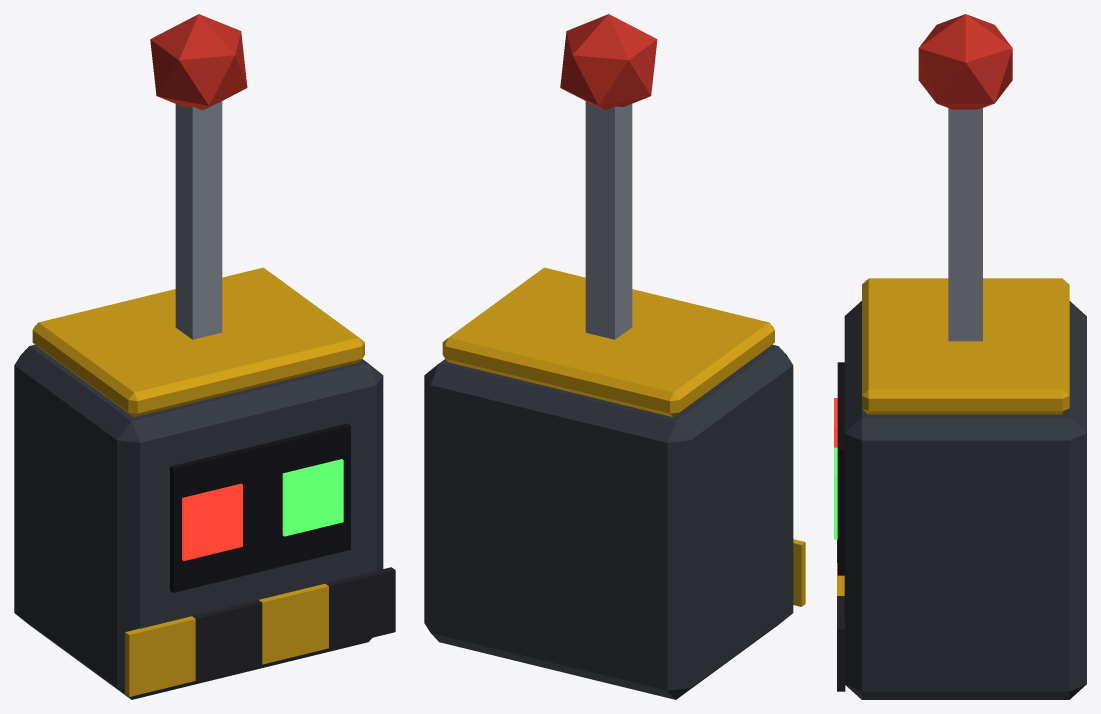
File: lever.glb
3 views of the same model, side by side, from view 1: azimuth 30°, elevation 25°; view 2: azimuth 150°, elevation 25°; view 3: azimuth 270°, elevation 25° (orthographic).
Visible parts, largest first — view 1: LeverBase, Handle; view 2: LeverBase, Handle; view 3: LeverBase, Handle.
Boxes of the visible parts, bbox=[...] form: LeverBase: bbox=[14, 267, 395, 699]; Handle: bbox=[150, 14, 247, 339]; LeverBase: bbox=[424, 267, 805, 699]; Handle: bbox=[560, 14, 657, 339]; LeverBase: bbox=[834, 278, 1086, 699]; Handle: bbox=[918, 14, 1012, 341].
Size of the model in its own units: 0.9 by 2 by 0.7299.
